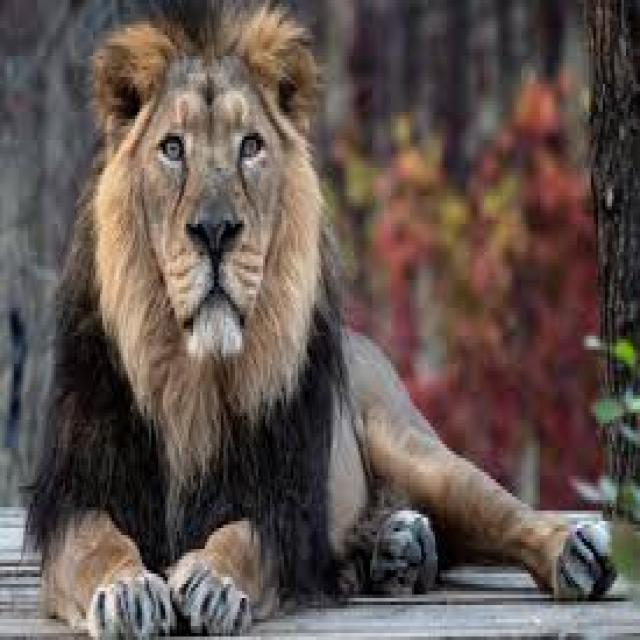Lion: (34, 7, 617, 635)
